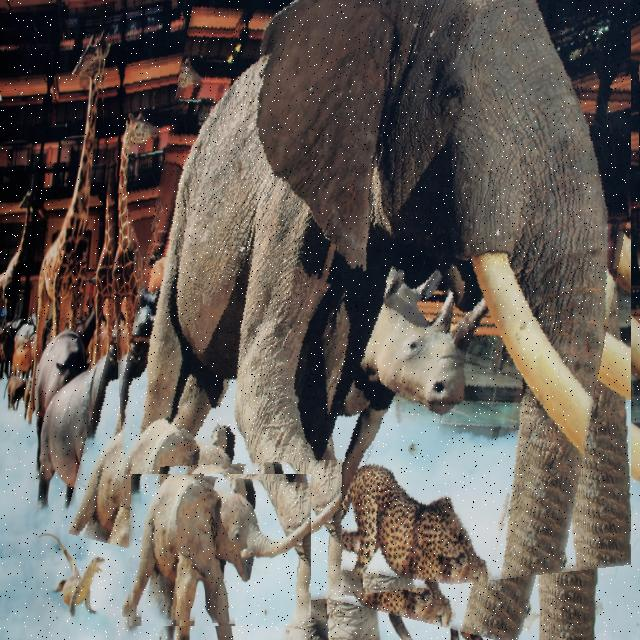elephant: (96, 0, 631, 620), (125, 474, 311, 626)
